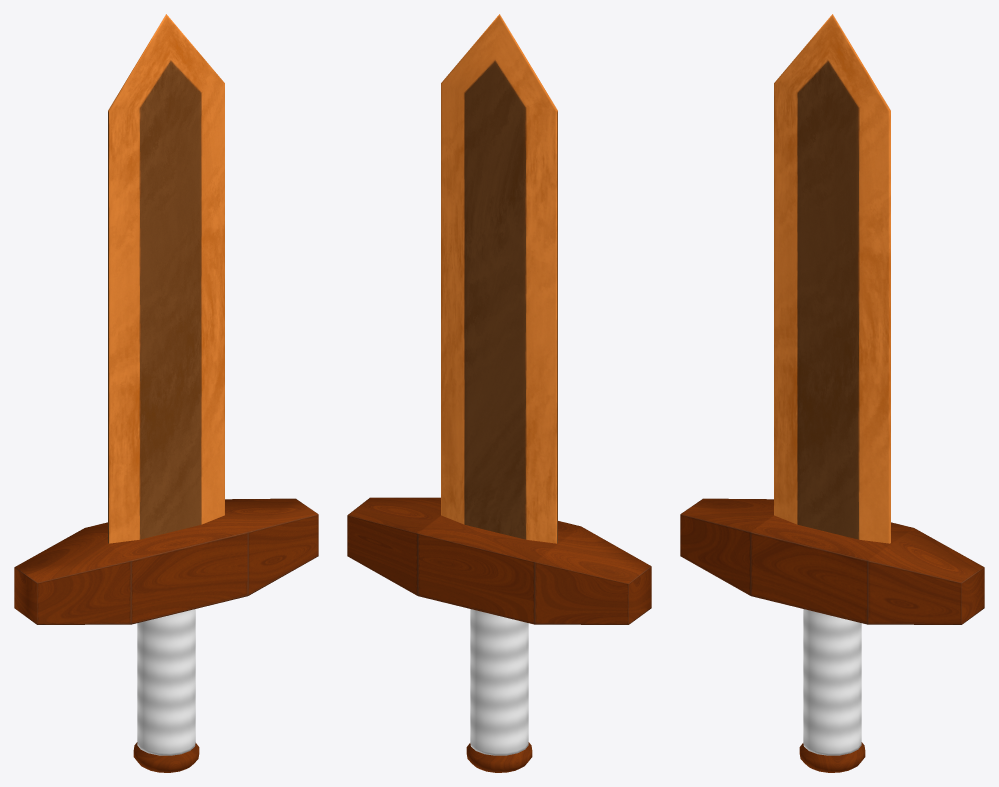
The model's file is 2H Sword.fbx.
The picture shows the model from 3 angles, left to right: view 1: azimuth 30°, elevation 25°; view 2: azimuth 150°, elevation 25°; view 3: azimuth 330°, elevation 25°; orthographic projection.
Visible parts, largest first — view 1: Blade, Crossguard, Cylinder, Hilt; view 2: Blade, Crossguard, Cylinder, Hilt; view 3: Blade, Crossguard, Cylinder, Hilt.
Boxes of the visible parts, <box> form: Blade: <box>108,14,224,543</box>; Crossguard: <box>14,498,318,624</box>; Cylinder: <box>137,609,195,755</box>; Hilt: <box>133,742,199,772</box>; Blade: <box>441,14,557,543</box>; Crossguard: <box>347,497,651,624</box>; Cylinder: <box>470,609,528,755</box>; Hilt: <box>466,742,532,772</box>; Blade: <box>774,14,890,543</box>; Crossguard: <box>680,498,984,624</box>; Cylinder: <box>803,609,861,755</box>; Hilt: <box>799,742,865,772</box>.
Bounding box in the file's own units: 280 × 711 × 80.
1 material, 1 textured.
